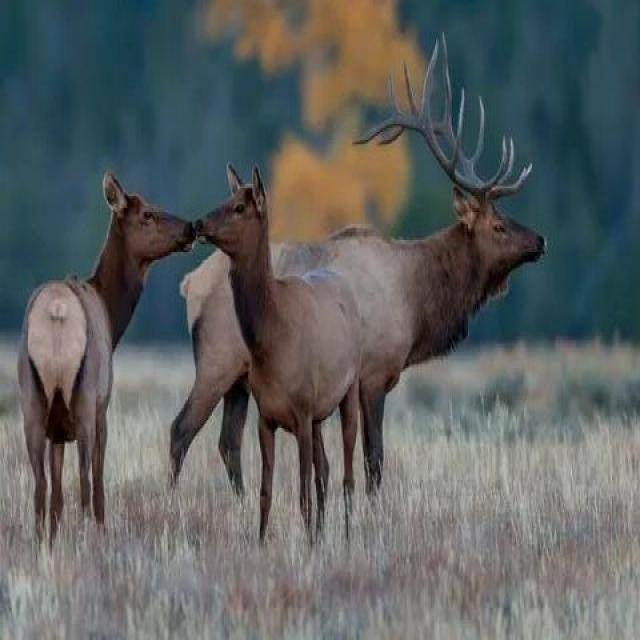deer: (301, 98, 544, 347), (186, 124, 354, 471), (23, 148, 192, 483)
